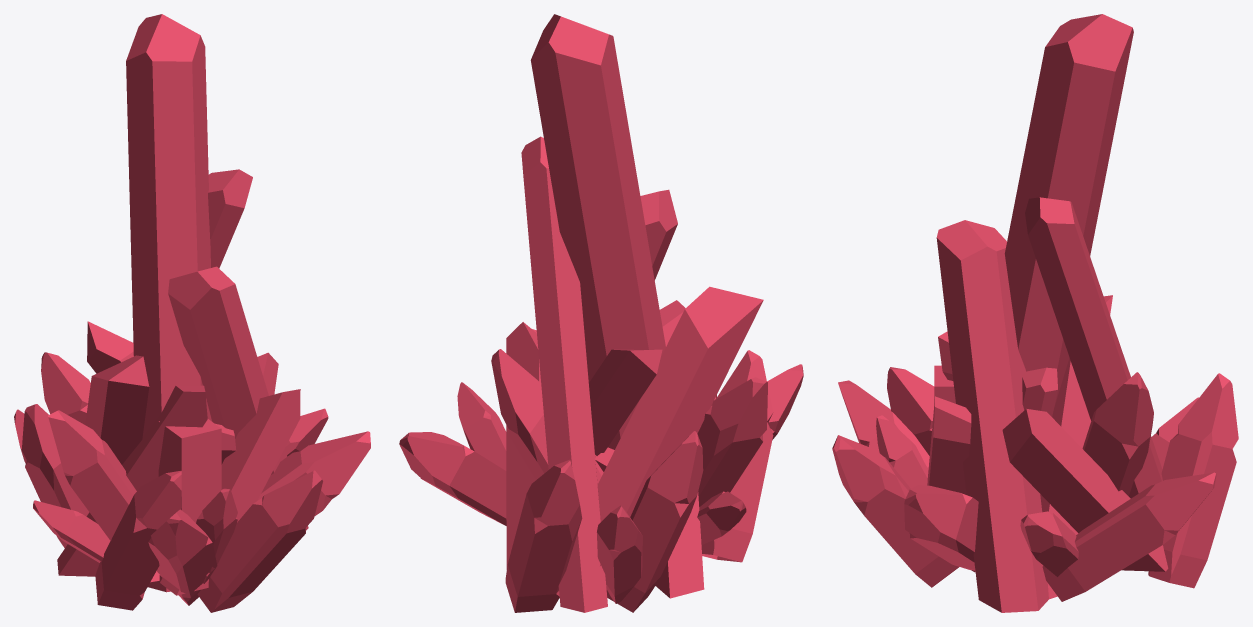
File: SM_Crystal_Medium_3.fbx
3 views of the same model, side by side, from view 1: azimuth 30°, elevation 25°; view 2: azimuth 150°, elevation 25°; view 3: azimuth 270°, elevation 25° (orthographic). The views are drawn at different scales.
Visible parts, largest first — view 1: SM_Crystal_Medium_3; view 2: SM_Crystal_Medium_3; view 3: SM_Crystal_Medium_3.
Boxes of the visible parts, x1,y1,x2,y2 form: SM_Crystal_Medium_3: (14,14,370,612); SM_Crystal_Medium_3: (399,14,803,612); SM_Crystal_Medium_3: (832,14,1238,612).
Size of the model in its own units: 336 by 602 by 384.
